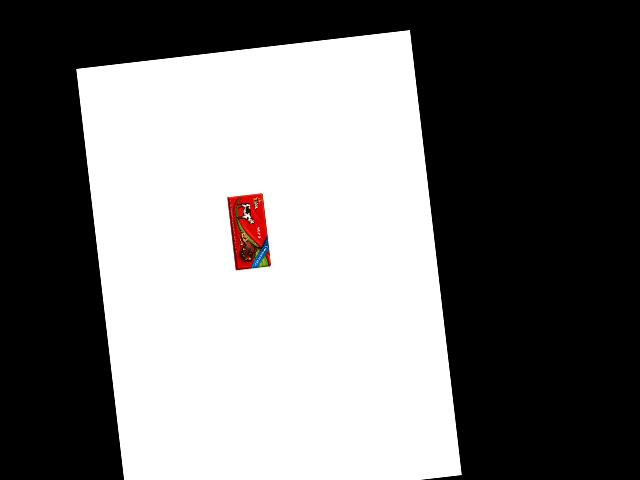chocolate: (227, 189, 271, 269)
